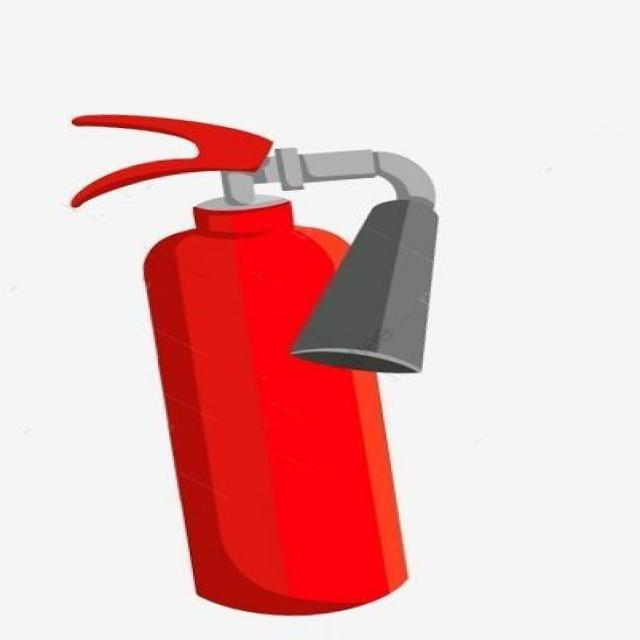fire_extinguisher: (61, 108, 451, 618)
